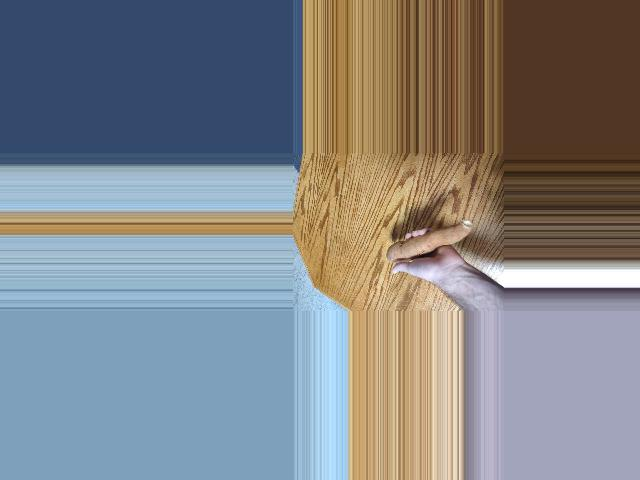sweet_potato: (386, 220, 474, 262)
